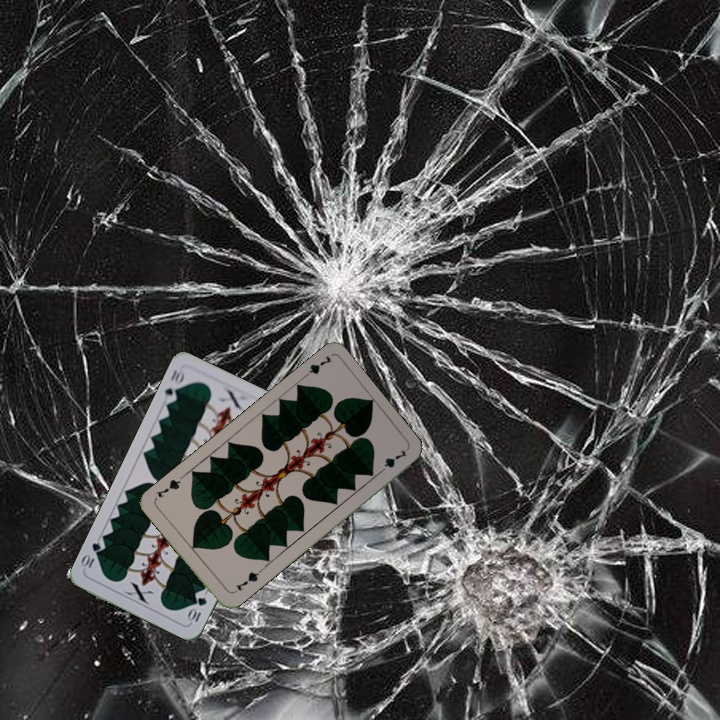G10: (160, 365, 187, 406), (184, 593, 210, 625)
G7: (297, 351, 335, 382), (232, 566, 263, 593)
